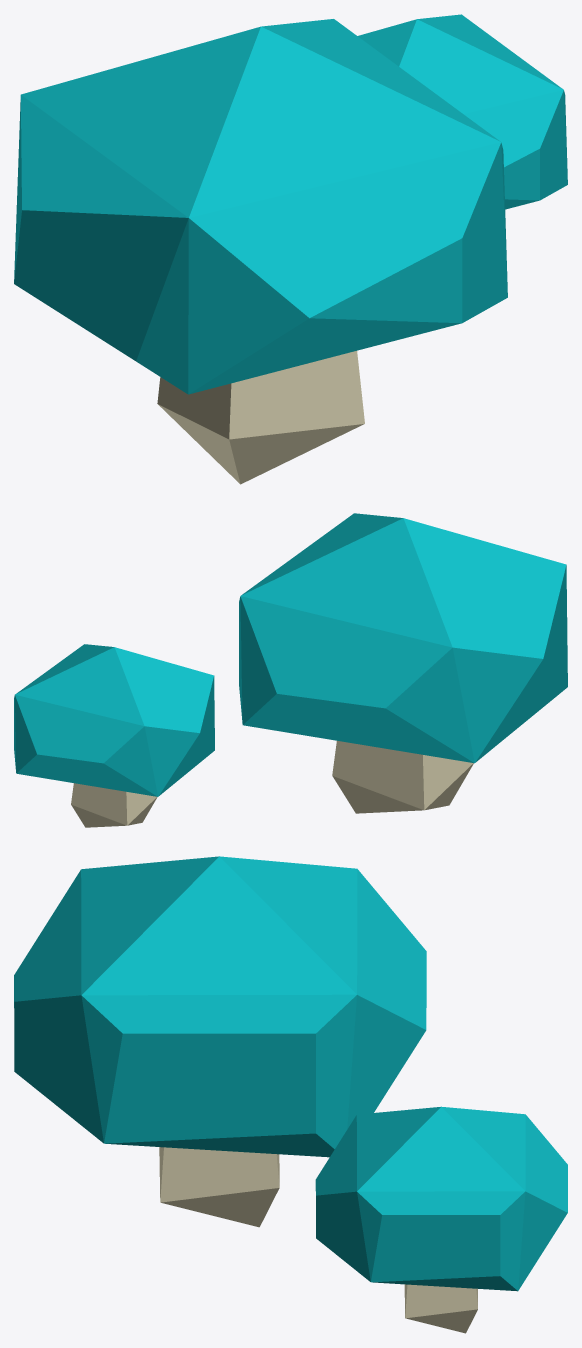
The model's file is Garden_MushroomBunch02.fbx.
3 renders of one model, top to bottom at view 1: azimuth 30°, elevation 25°; view 2: azimuth 150°, elevation 25°; view 3: azimuth 270°, elevation 25°, orthographic. The views are drawn at different scales.
Visible parts, largest first — view 1: Cube.321; view 2: Cube.321; view 3: Cube.321.
Boxes of the visible parts, x1,y1,x2,y2 form: Cube.321: [14, 14, 567, 484]; Cube.321: [14, 513, 567, 827]; Cube.321: [14, 856, 567, 1333].
Bounding box in the file's own units: 47.65 × 31.29 × 44.41.
